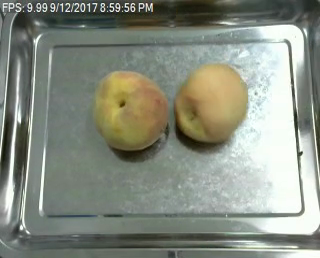Peach: (91, 69, 168, 151), (174, 62, 248, 144)
